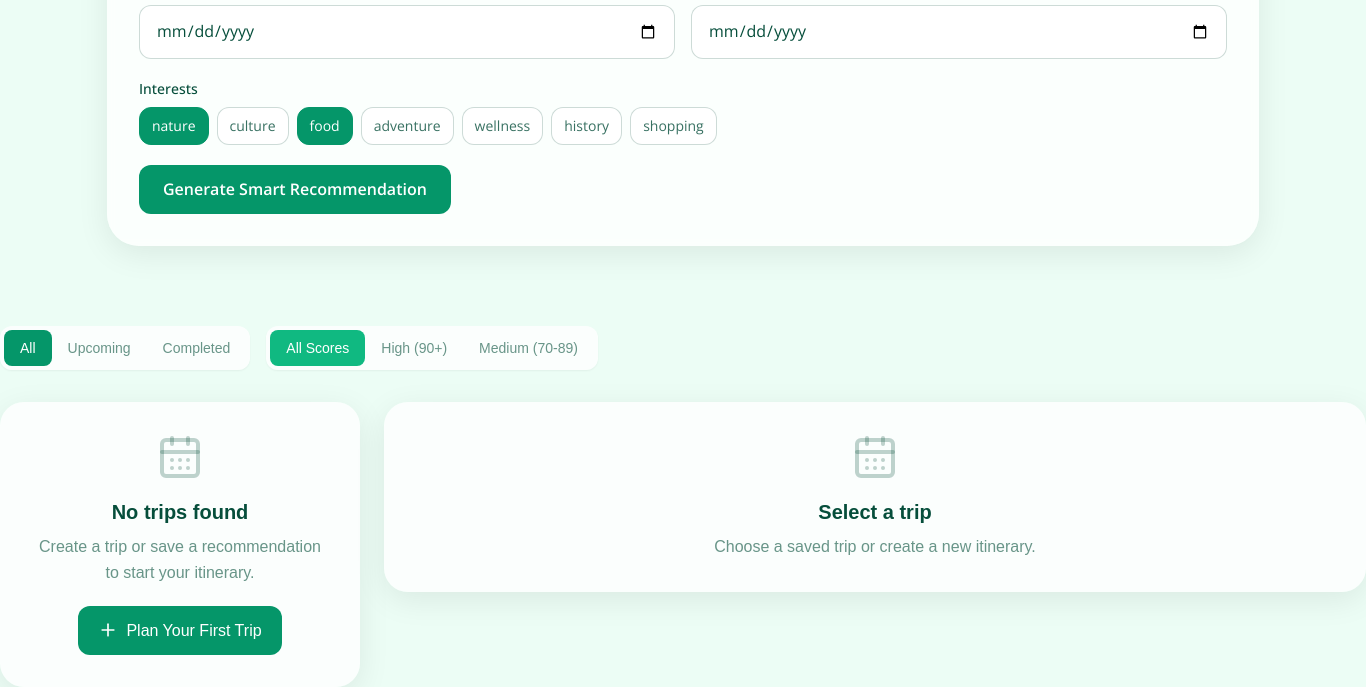
Scenario: TripsTab › renders empty trip and itinerary states
This screenshot has width=1366, height=687.
(page scrolled)
Expected: the heading "No trips found" is shown, [112,501,248,523]
Expected: the text "Create a trip or save a recommendation to start your itinerary." is shown, [32,534,328,586]
Click the button "Plan Your First Trip" at {"x": 180, "y": 630}, box [78,606,282,655]
(page scrolled)
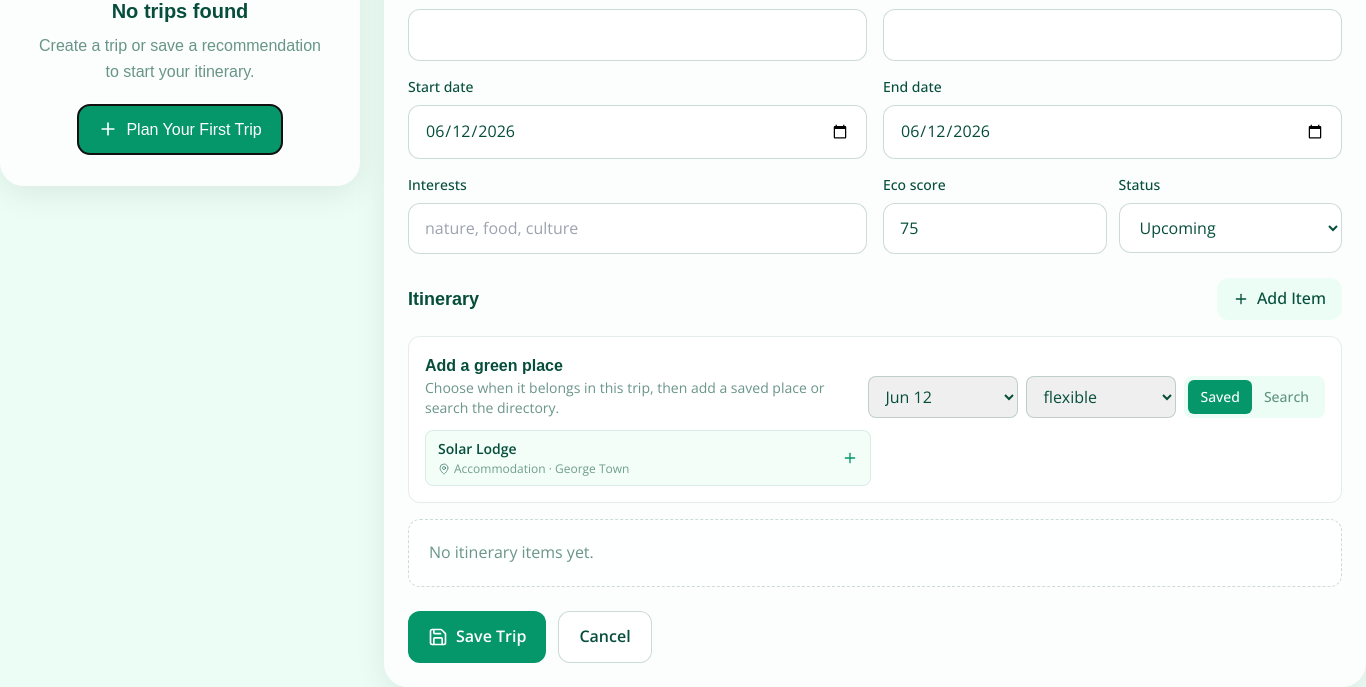
Expected: the text "No itinerary items yet." is shown, [408,519,1342,587]
